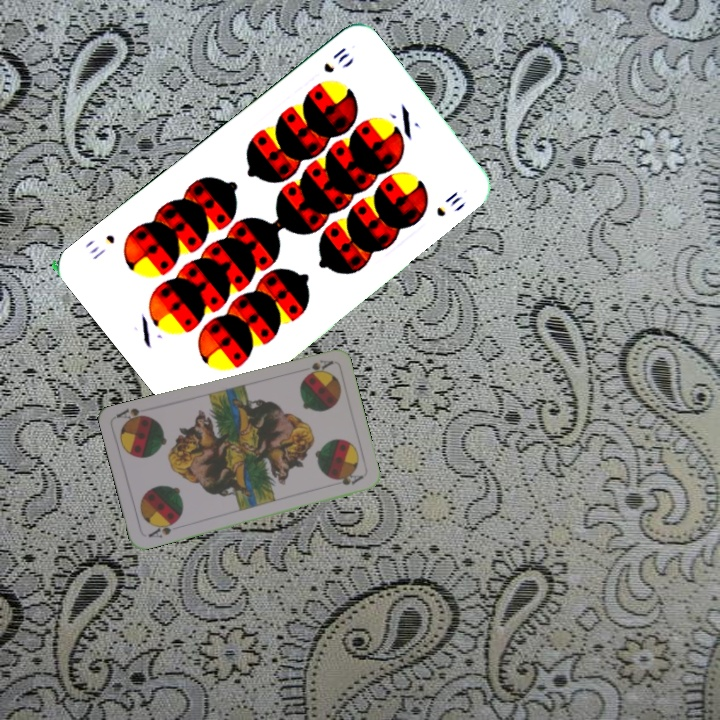S10: (319, 43, 352, 76)
SA: (144, 516, 181, 541), (302, 355, 335, 378)
